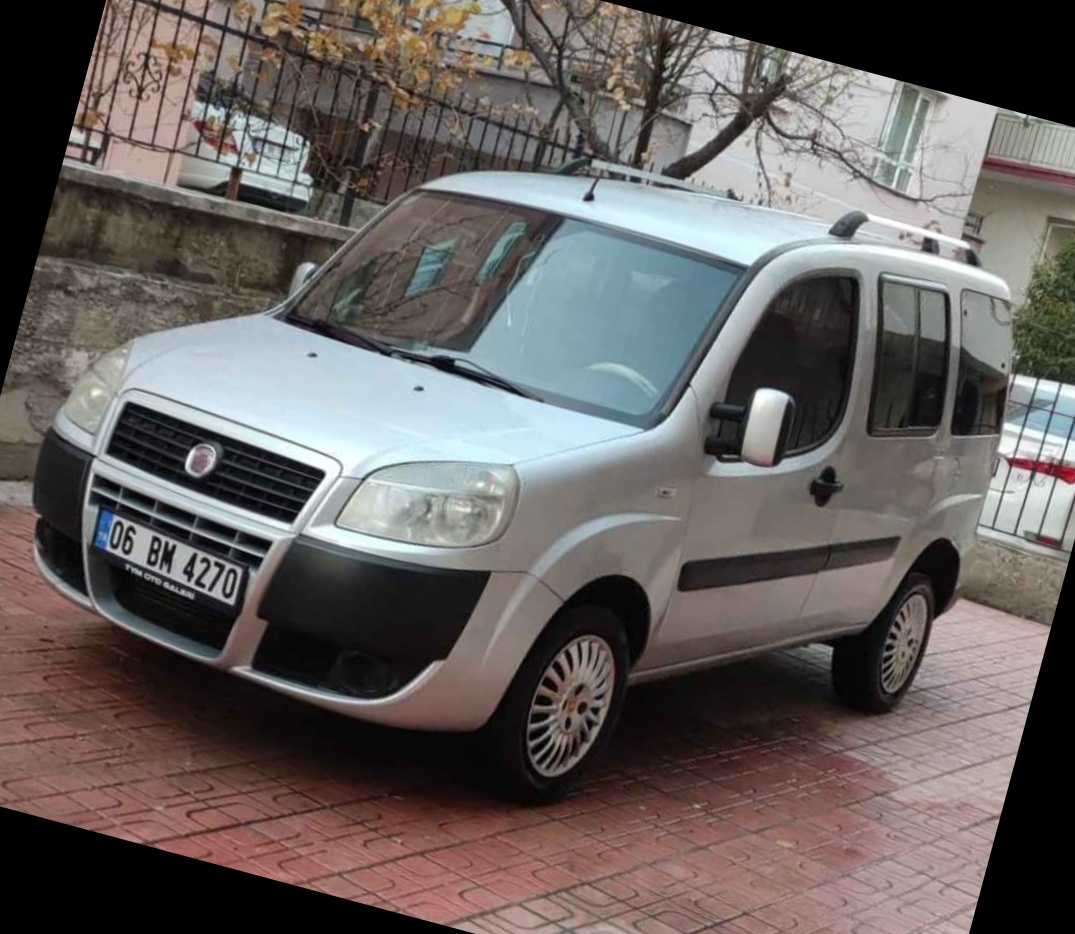plaka: (95, 516, 247, 608)
